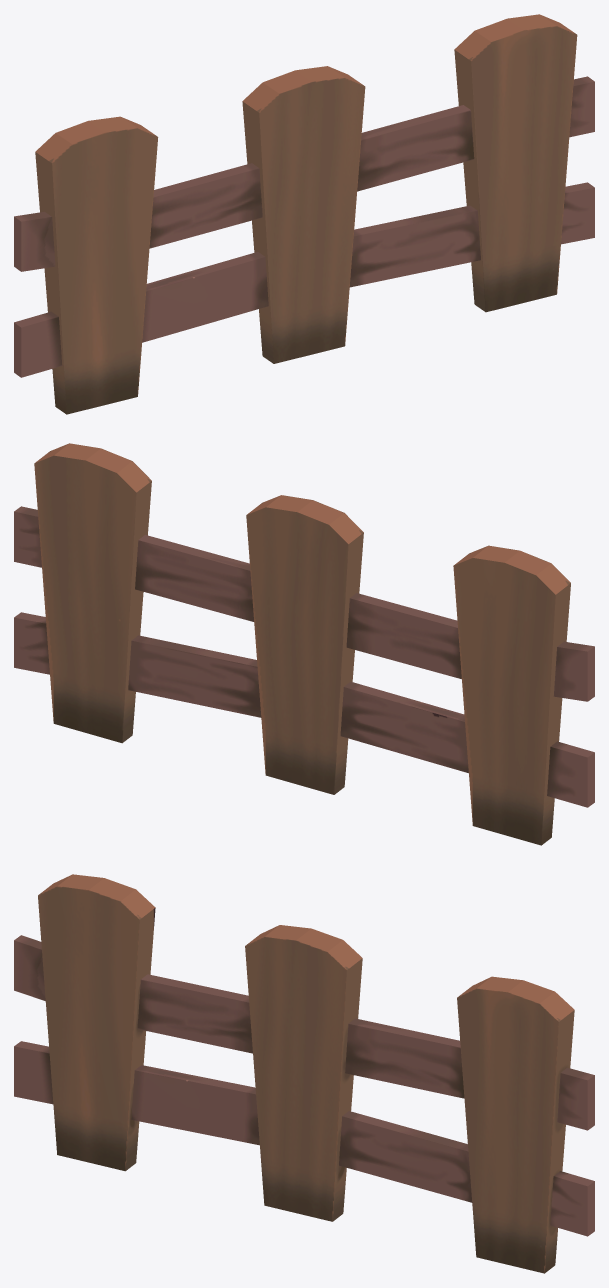
File: fence.gltf
The picture shows the model from 3 angles, top to bottom: view 1: azimuth 30°, elevation 25°; view 2: azimuth 150°, elevation 25°; view 3: azimuth 330°, elevation 25°; orthographic projection.
Visible parts, largest first — view 1: FenceMesh; view 2: FenceMesh; view 3: FenceMesh.
Part boxes in pixels (box(x1,y1,x2,y2)): FenceMesh: box(14, 14, 594, 414); FenceMesh: box(14, 443, 594, 845); FenceMesh: box(14, 874, 594, 1273).
Size of what is drawn, in the model's own units: 2 by 0.919 by 0.1103.
1 material, 1 textured.
